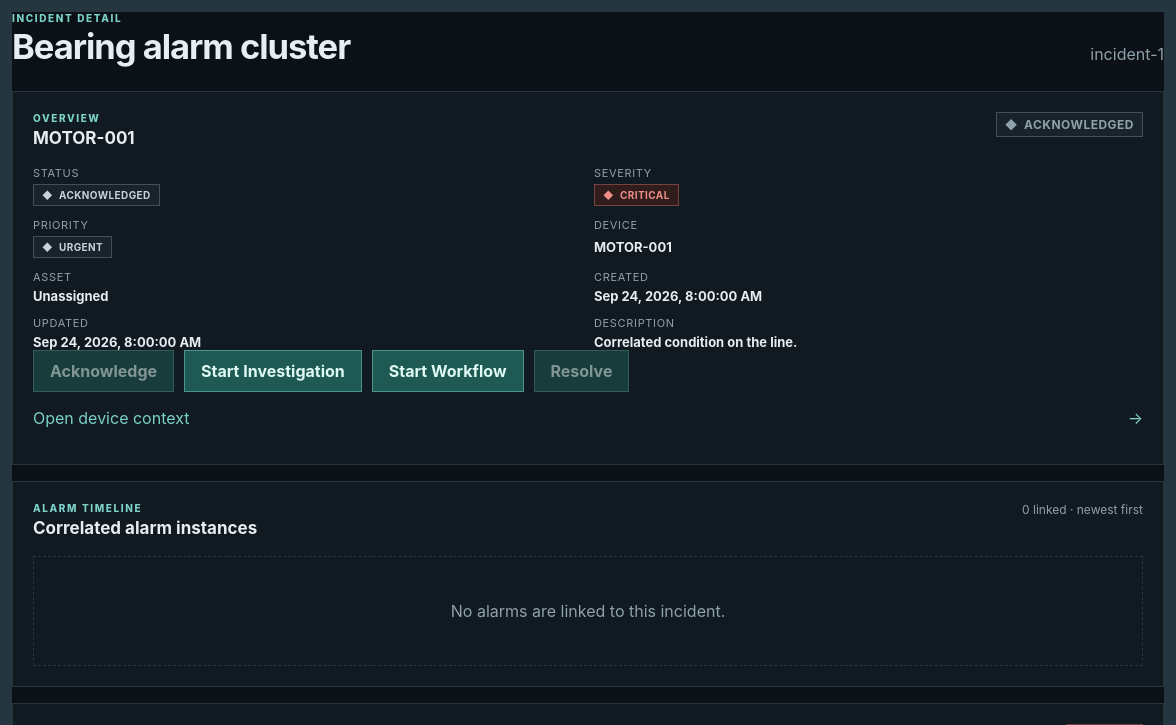
incident page permissions › surfaces the server refusal even though the action was offered
This screenshot has width=1176, height=725.
Click the button "Start Workflow" at (448, 371), box [372,350,524,392]
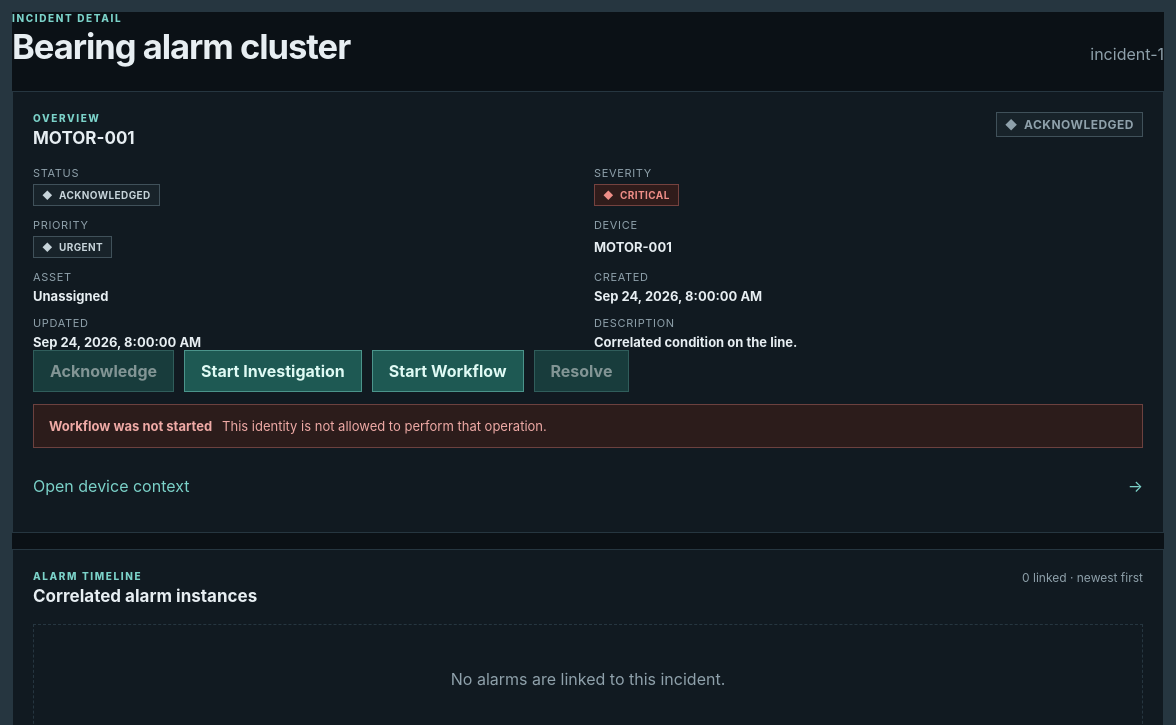
expect the text "This identity is not allowed to perform that operation." is shown: met, box [222,418,547,434]
